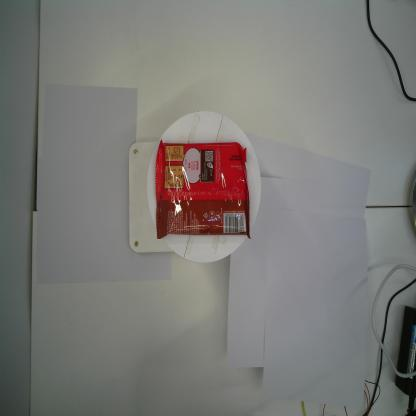Dessert: (154, 138, 252, 241)
